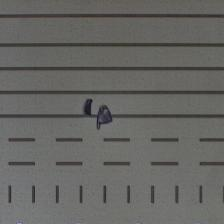PIQ PARTICLE: (83, 99, 113, 131)
